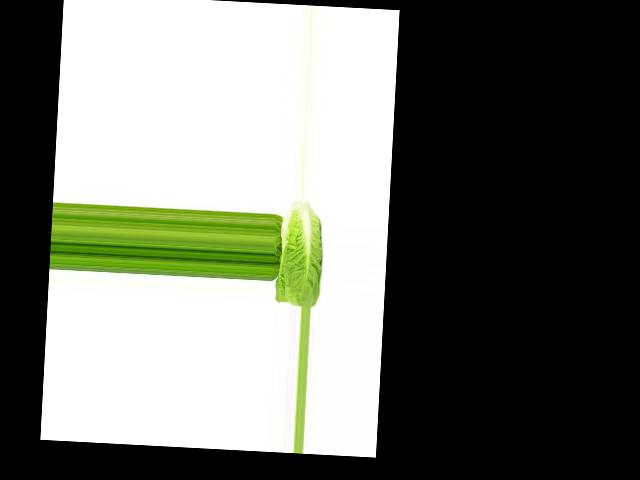lettuce: (276, 201, 332, 309)
